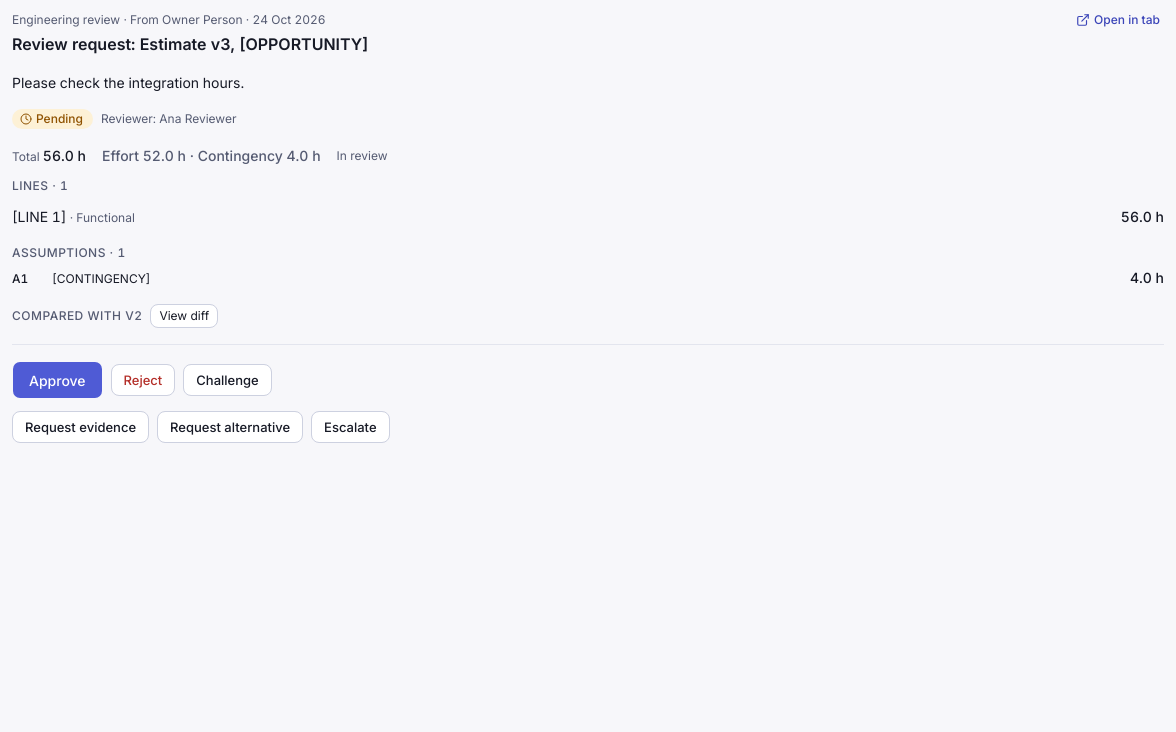
ReviewPanelView › Request alternative reveals its reason
Click the button "Request alternative". click: (230, 427)
box: [157,411,303,443]
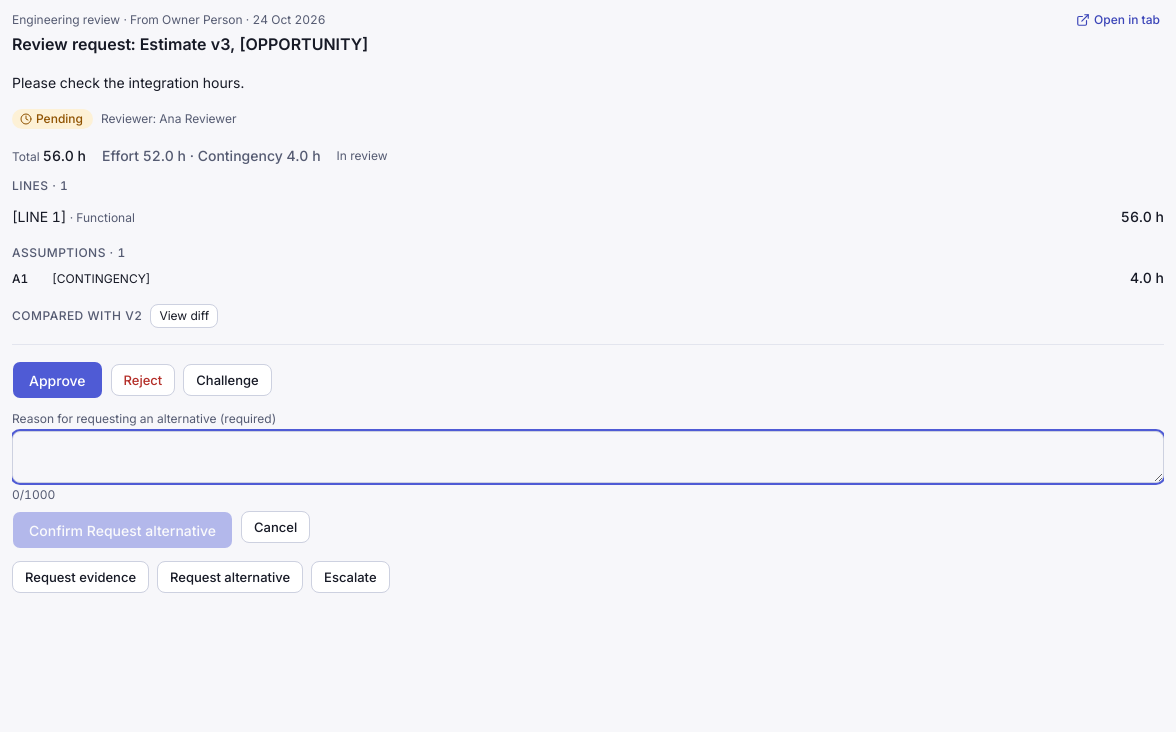
Now the text box labelled "Reason for requesting an alternative (required)" is shown, box [12,431,1164,483]
Now the button "Confirm Request alternative" is disabled, box [12,511,233,549]
